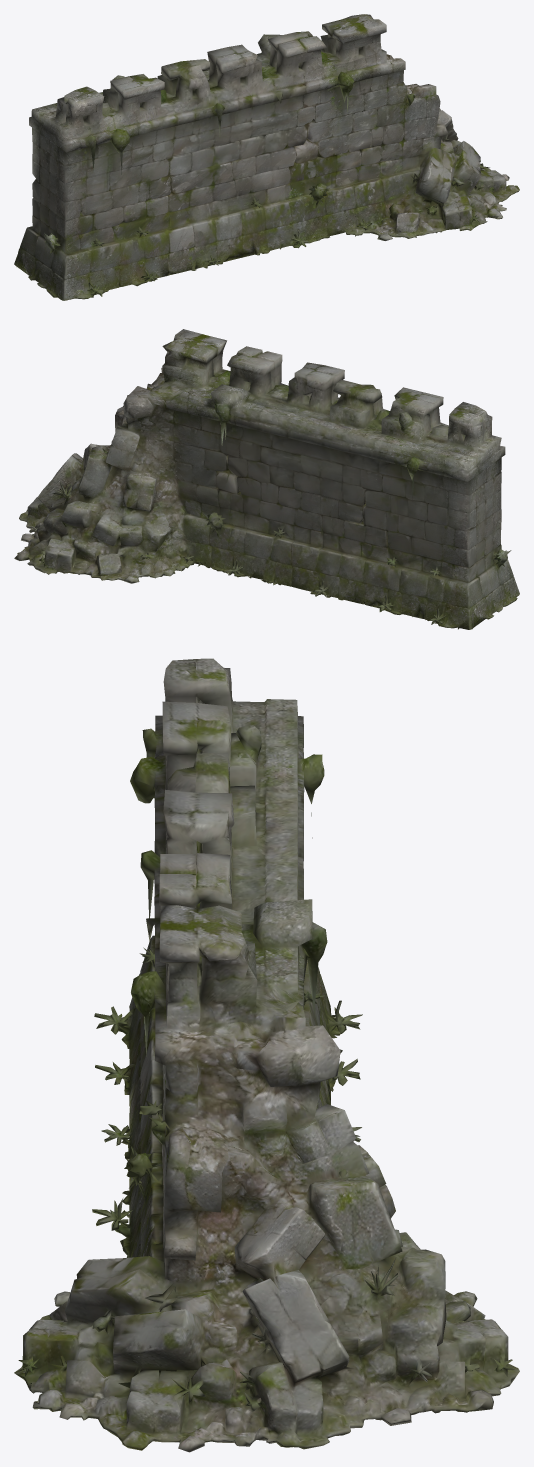
The model's file is t951_fort_wall.glb.
3 renders of one model, top to bottom at view 1: azimuth 30°, elevation 25°; view 2: azimuth 150°, elevation 25°; view 3: azimuth 270°, elevation 25°, orthographic. The views are drawn at different scales.
Parts seen in each view (by area): view 1: tripo_node_53a4667f-9109-4c27-9a1f-0709976d1d4f; view 2: tripo_node_53a4667f-9109-4c27-9a1f-0709976d1d4f; view 3: tripo_node_53a4667f-9109-4c27-9a1f-0709976d1d4f.
Part boxes in pixels (x1,y1,x2,y2): tripo_node_53a4667f-9109-4c27-9a1f-0709976d1d4f: [14, 14, 519, 300]; tripo_node_53a4667f-9109-4c27-9a1f-0709976d1d4f: [14, 329, 519, 629]; tripo_node_53a4667f-9109-4c27-9a1f-0709976d1d4f: [14, 658, 519, 1452].
Size of the model in its own units: 0.9809 by 0.3872 by 0.4655.
1 material, 1 textured.
